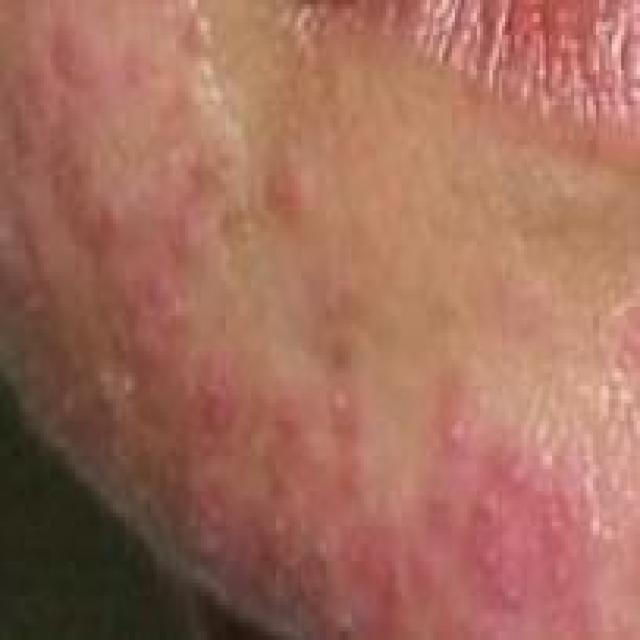Rosacea: (30, 23, 584, 614)
